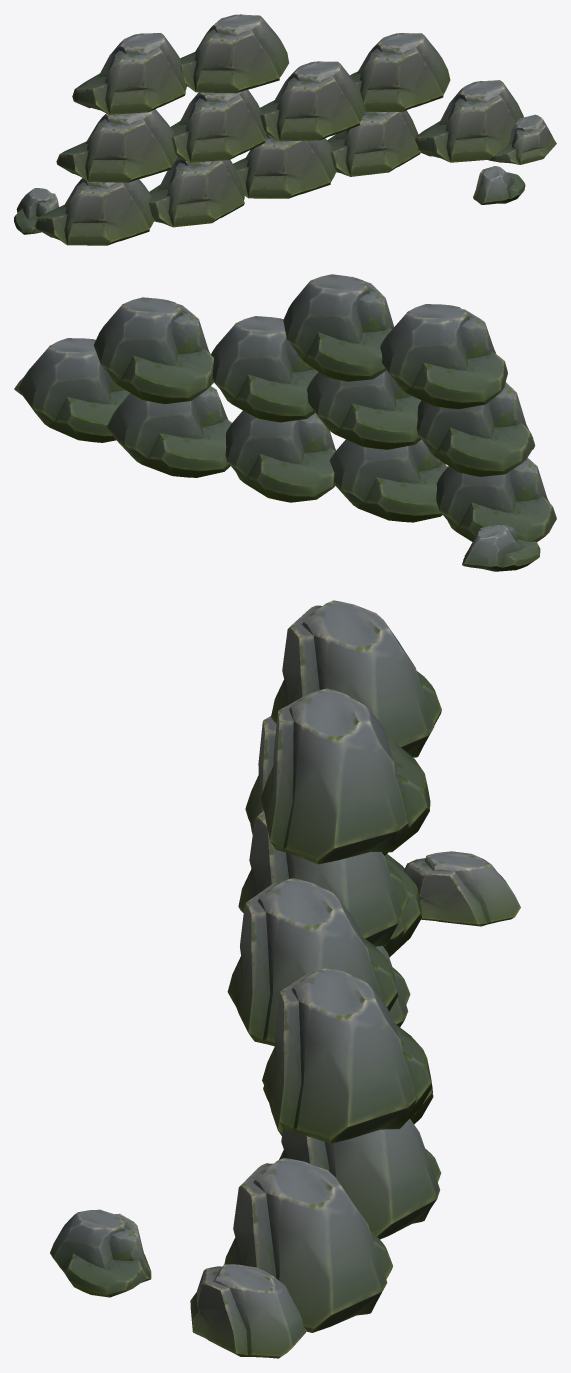
The model's file is Dry_Stone_Wall_Barren.glb.
3 renders of one model, top to bottom at view 1: azimuth 30°, elevation 25°; view 2: azimuth 150°, elevation 25°; view 3: azimuth 270°, elevation 25°, orthographic. The views are drawn at different scales.
Parts seen in each view (by area): view 1: Structure; view 2: Structure; view 3: Structure.
Boxes of the visible parts, x1,y1,x2,y2 form: Structure: (14,14,556,245); Structure: (14,274,556,571); Structure: (50,600,520,1358).
Bounding box in the file's own units: 3.93 × 1.4 × 1.62.
Materials: 1 (1 with a texture image).
